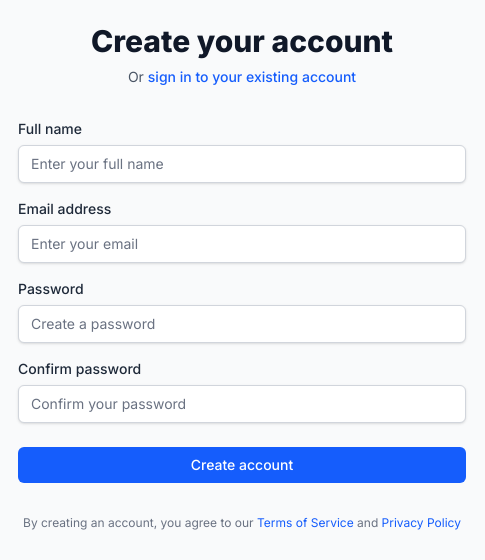
Test: Authentication Flow › User Registration › should show error for mismatched passwords
The image size is (485, 560).
Type "John Doe" into the field named "name" at (242, 164), box 18,145 -> 466,183
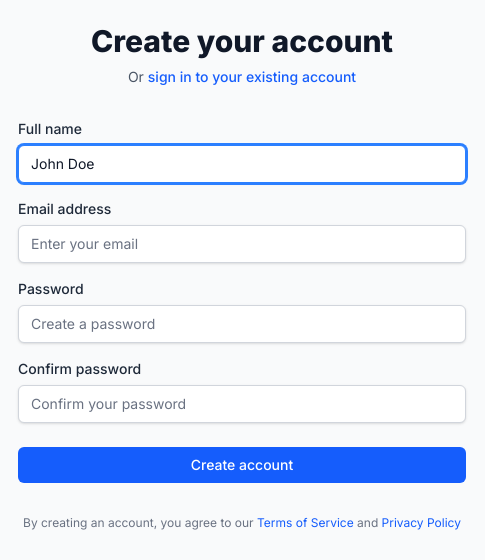
Type "john@example.com" into the field named "email" at (242, 244), box 18,225 -> 466,263
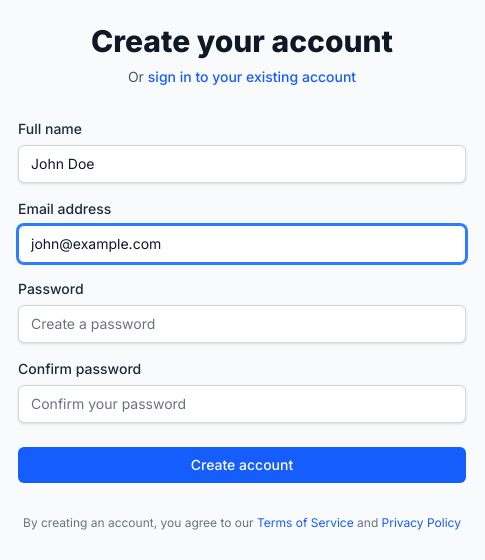
Type "password123" into the password field named "password" at (242, 324), box 18,305 -> 466,343
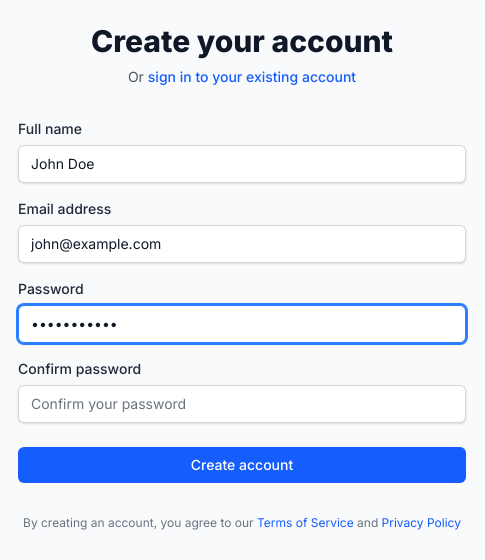
Type "different" into the password field named "confirmPassword" at (242, 404), box 18,385 -> 466,423
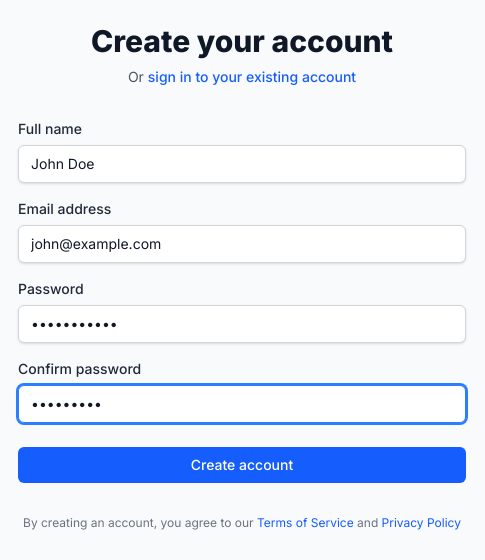
Click the submit button at (242, 465), box 18,447 -> 466,483
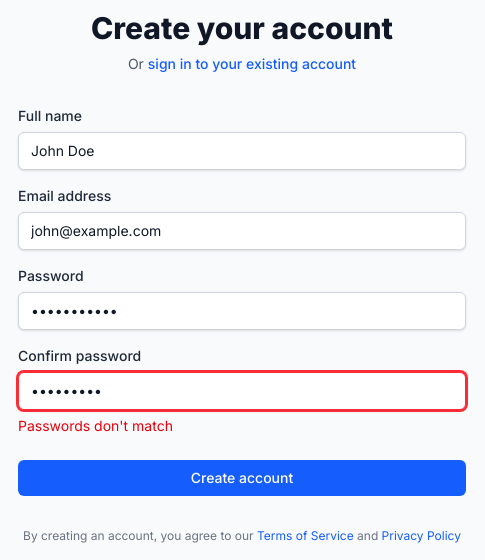
Expected: the text "Passwords don't match" is shown, 18,417 -> 173,434
